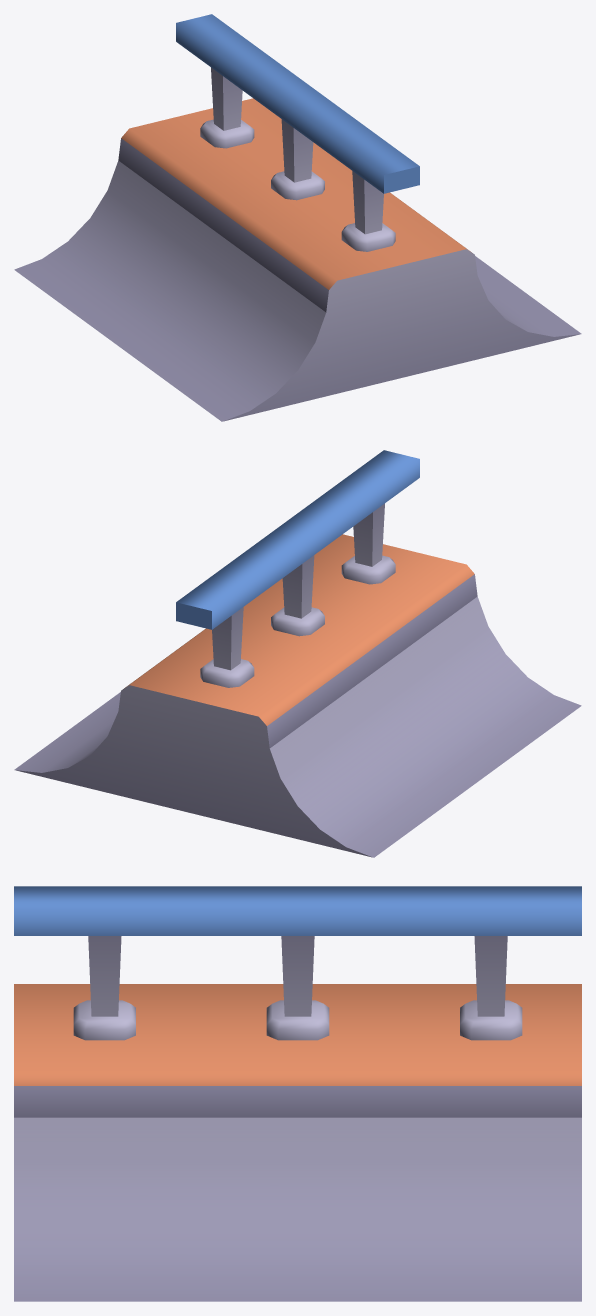
Rendered from mini-skate--obstacle-middle-rail.glb.
The picture shows the model from 3 angles, top to bottom: view 1: azimuth 30°, elevation 25°; view 2: azimuth 150°, elevation 25°; view 3: azimuth 270°, elevation 25°; orthographic projection. The views are drawn at different scales.
Parts seen in each view (by area): view 1: obstacle-middle-rail; view 2: obstacle-middle-rail; view 3: obstacle-middle-rail.
Part boxes in pixels (bbox=[...]): obstacle-middle-rail: bbox=[14, 14, 581, 421]; obstacle-middle-rail: bbox=[14, 450, 581, 857]; obstacle-middle-rail: bbox=[14, 886, 581, 1301].
Bounding box in the file's own units: 1 × 0.55 × 1.
Materials: 1 (1 with a texture image).
